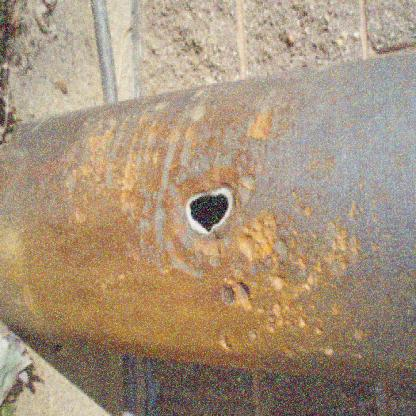burst: (184, 175, 248, 241)
